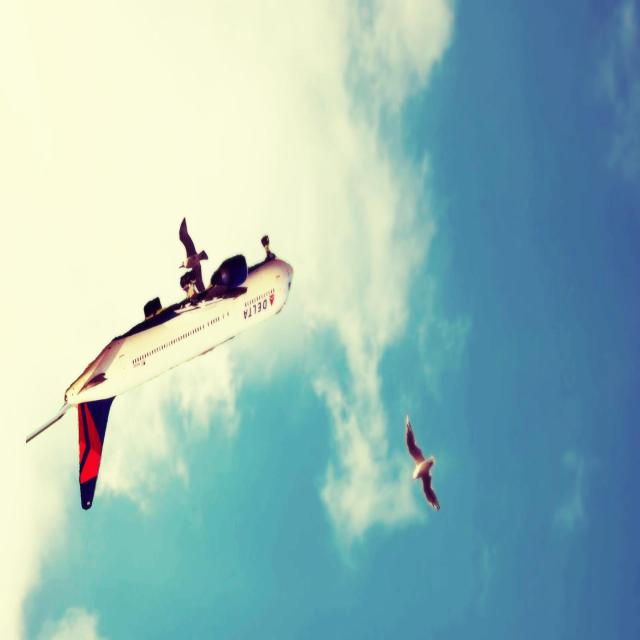airplane: (25, 216, 294, 510)
